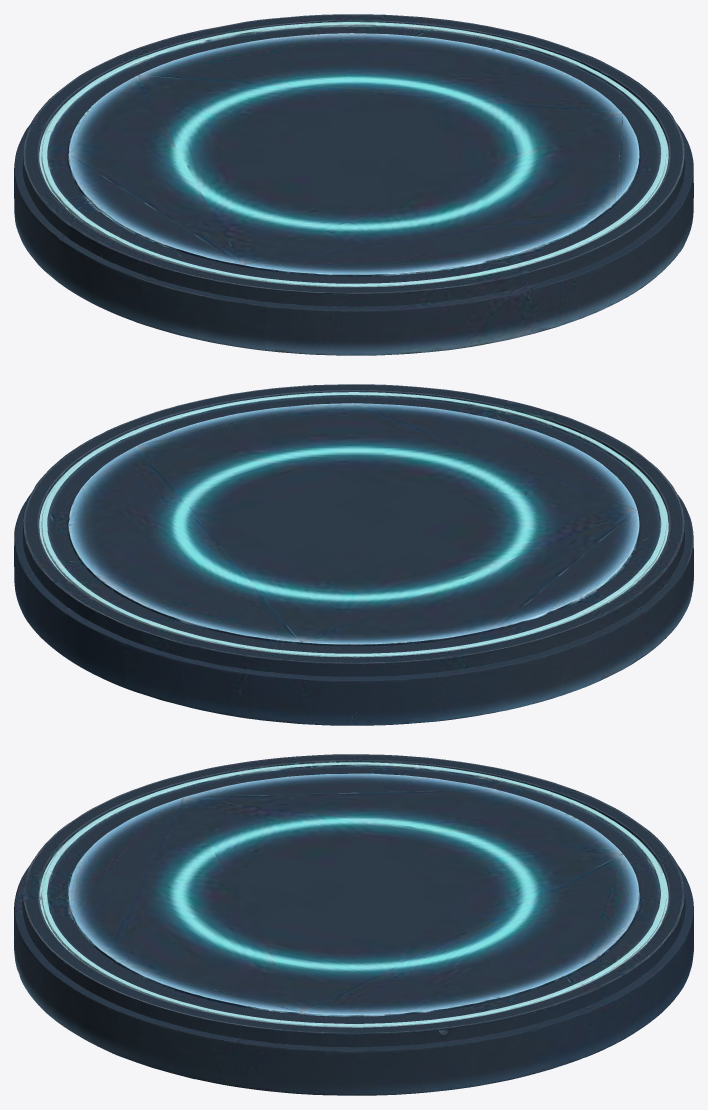
Rendered from emote-stage.glb.
3 views of the same model, one above another, from view 1: azimuth 30°, elevation 25°; view 2: azimuth 150°, elevation 25°; view 3: azimuth 270°, elevation 25° (orthographic).
Bounding box in the file's own units: 1.9 × 0.1837 × 1.9.
Materials: 1 (1 with a texture image).
